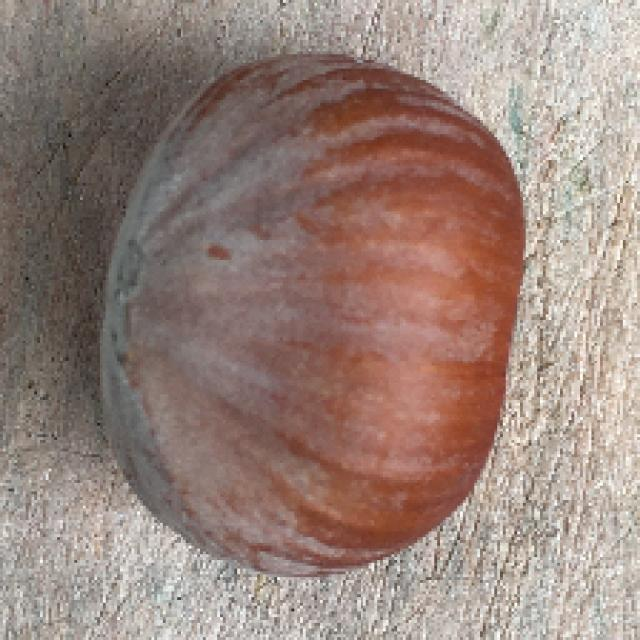qualityHazelnut: (98, 55, 533, 586)
